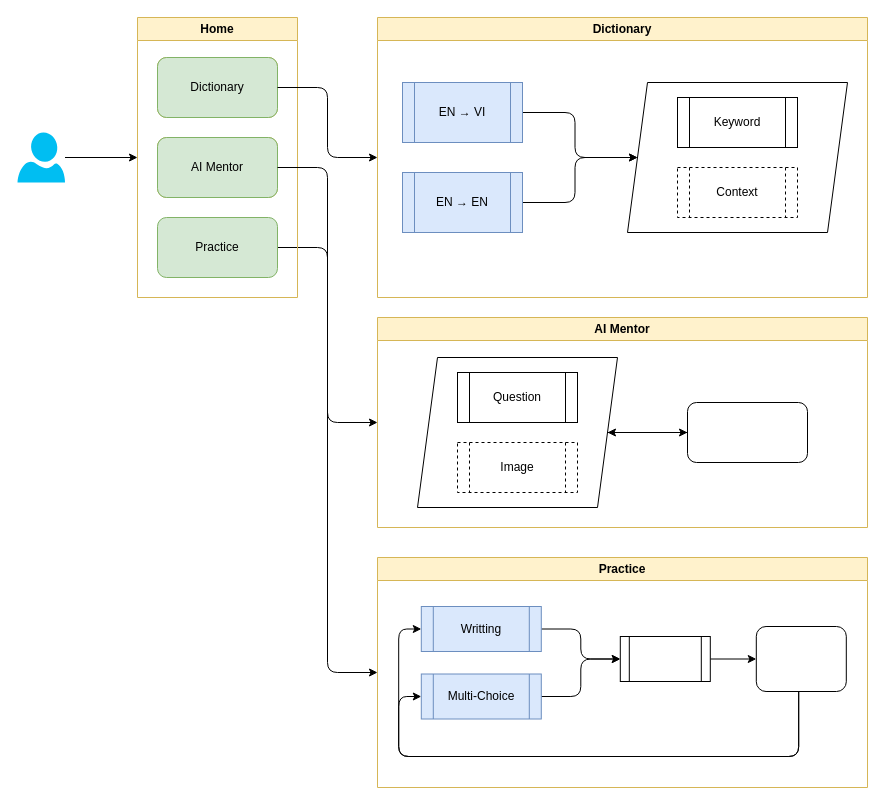
This 885x805 diagram has some shape labels left out. The centre of each missing label's shape, as x and y in pixels:
"Assignment" belongs at (x=800, y=659).
"Response" belongs at (x=747, y=432).
"Topic" belongs at (x=664, y=659).
